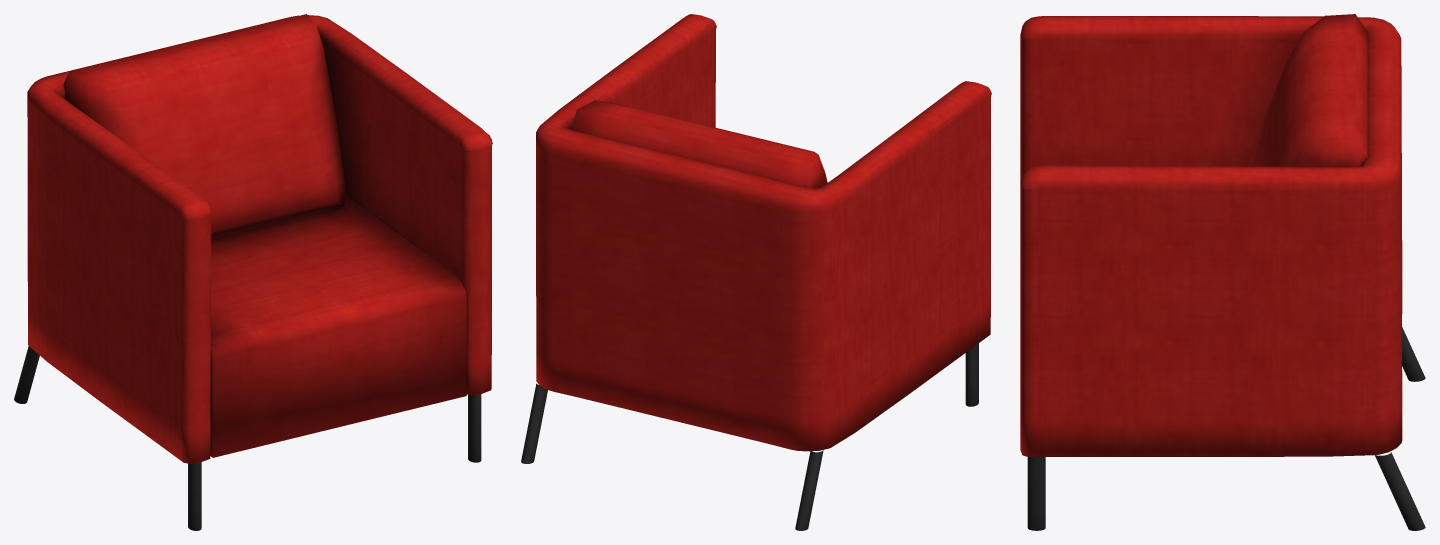
File: ik-ekero-orange_baked.glb
3 views of the same model, side by side, from view 1: azimuth 30°, elevation 25°; view 2: azimuth 150°, elevation 25°; view 3: azimuth 270°, elevation 25° (orthographic). The views are drawn at different scales.
Visible parts, largest first — view 1: Mesh_0.014; view 2: Mesh_0.014; view 3: Mesh_0.014.
Part boxes in pixels (x1,y1,x2,y2): Mesh_0.014: [14, 14, 492, 530]; Mesh_0.014: [521, 14, 991, 530]; Mesh_0.014: [1020, 14, 1425, 530].
Size of the model in its own units: 70.01 by 75 by 73.07.
1 material, 1 textured.
